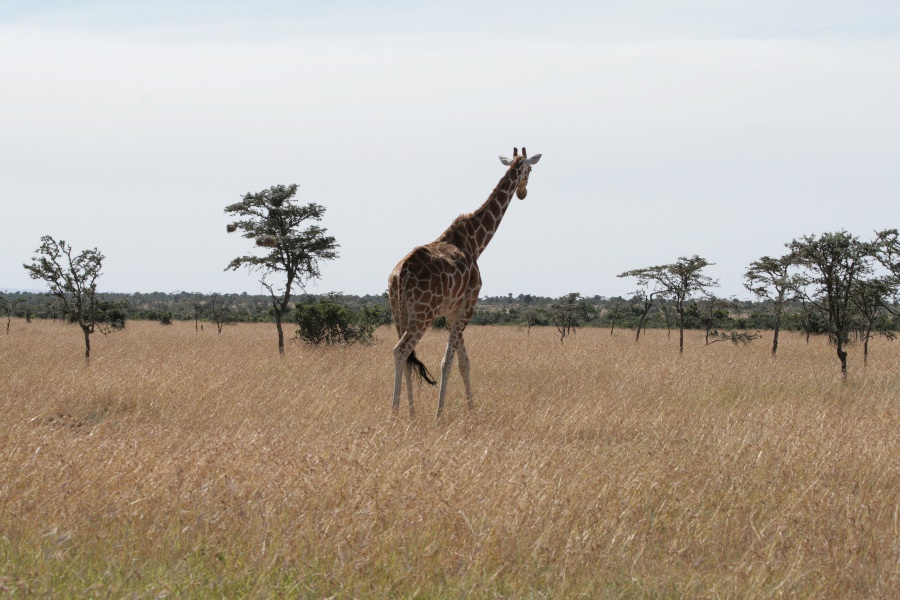giraffe: (380, 140, 549, 432)
